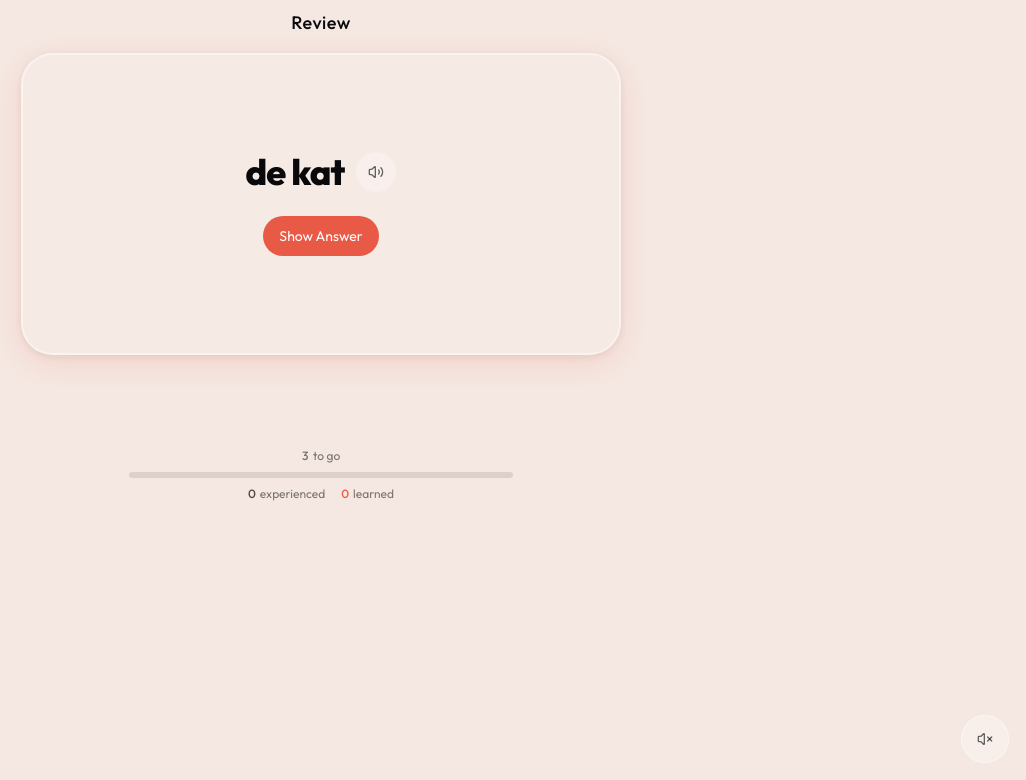
Test: ReviewSession › active review session › submits review and shows next card when grade button clicked
# Reveal answer
Type keys " "
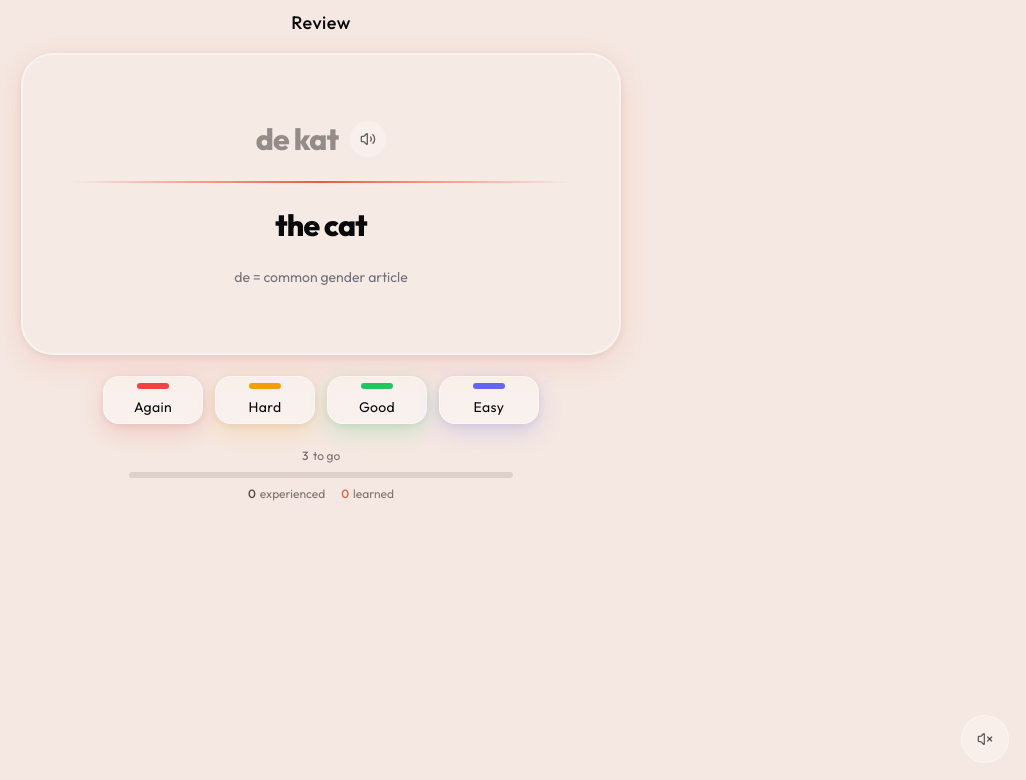
Expected: the text "the cat" is shown, [275,207,367,243]
Click the button "Good" at (377, 400), box [327,376,427,424]
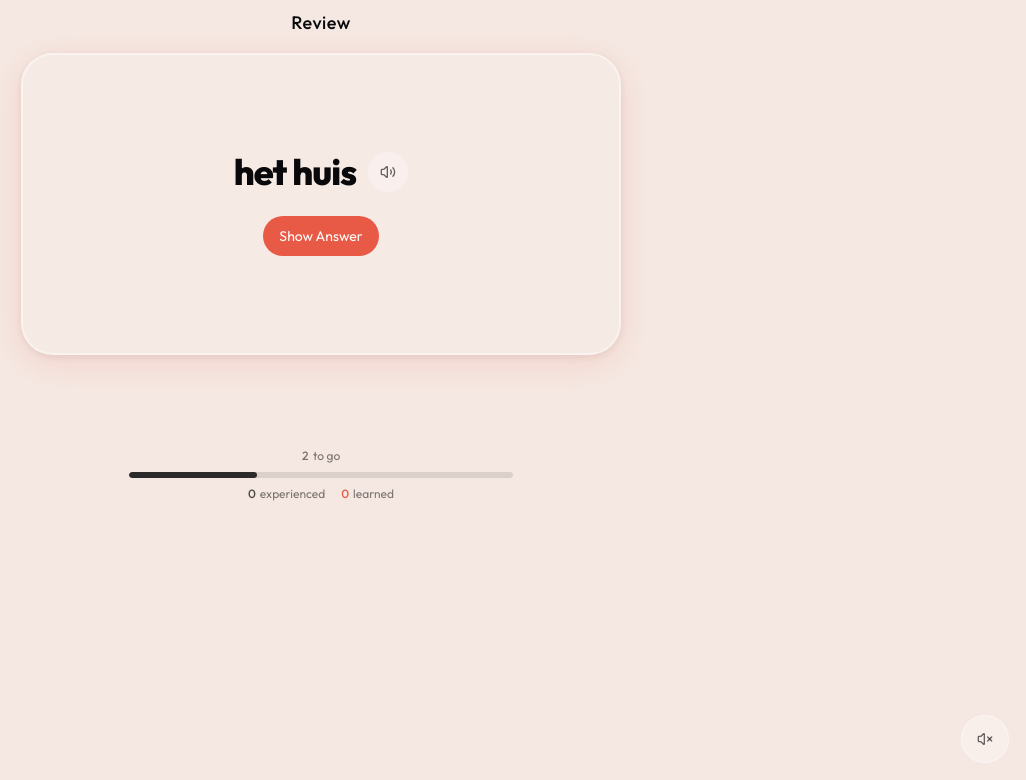
Expected: the text "het huis" is shown, [234,152,356,192]
